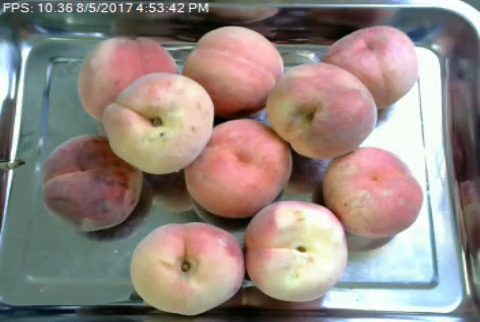Peach: (263, 63, 381, 161), (102, 75, 217, 174), (242, 200, 351, 304), (181, 118, 293, 217), (128, 224, 245, 315), (40, 133, 142, 230), (312, 22, 424, 109), (321, 146, 425, 238), (183, 25, 283, 114), (81, 35, 173, 122)
